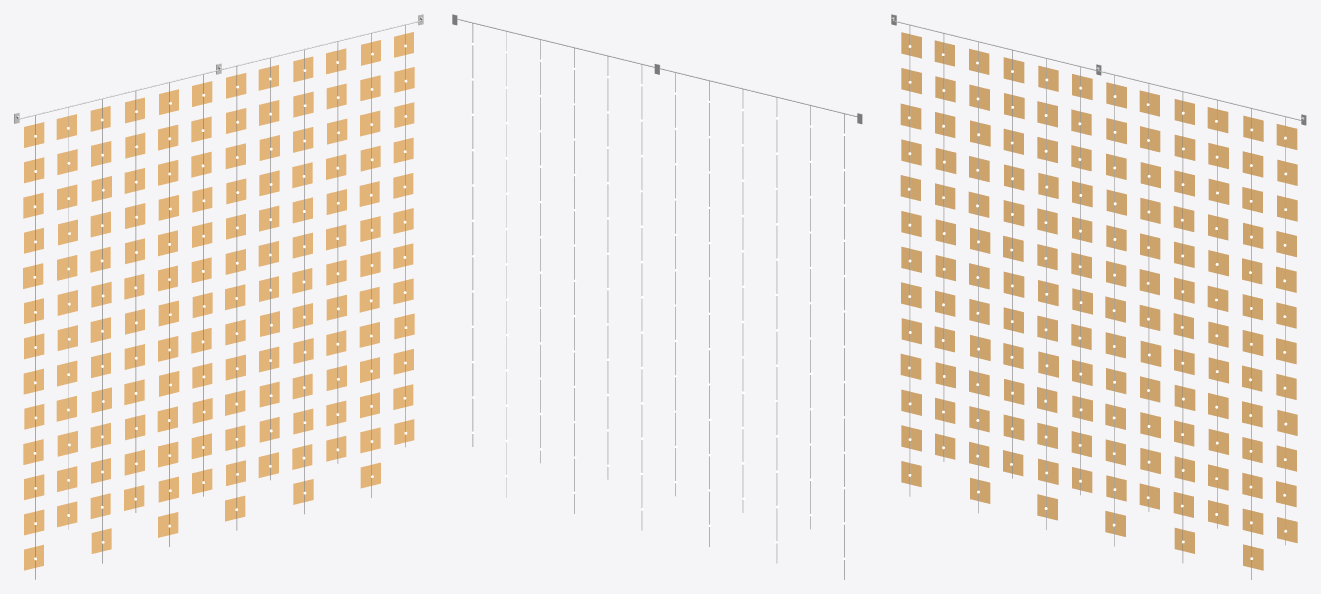
The model's file is obj-curtain-lights-warm.glb.
3 views of the same model, side by side, from view 1: azimuth 30°, elevation 25°; view 2: azimuth 150°, elevation 25°; view 3: azimuth 330°, elevation 25° (orthographic).
Visible parts, largest first — view 1: obj-curtain-lights-warm; view 2: obj-curtain-lights-warm; view 3: obj-curtain-lights-warm.
Boxes of the visible parts, bbox=[...] form: obj-curtain-lights-warm: bbox=[14, 14, 423, 579]; obj-curtain-lights-warm: bbox=[452, 14, 862, 579]; obj-curtain-lights-warm: bbox=[891, 14, 1306, 579].
Bounding box in the file's own units: 1.21 × 1.33 × 0.013.
Materials: 4 (1 with a texture image).
